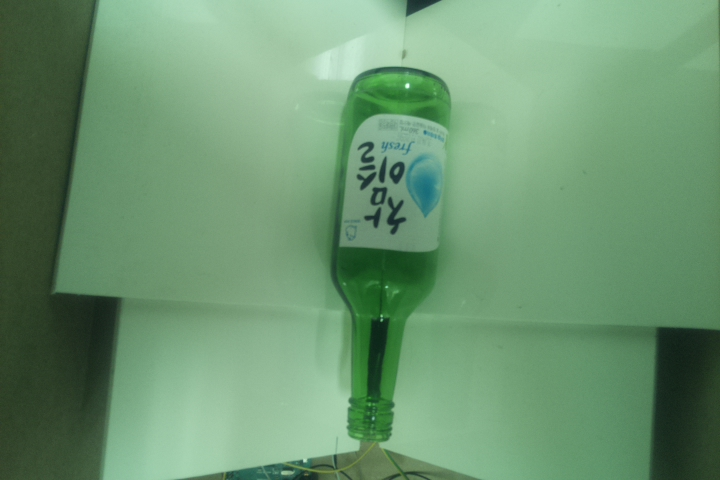soju: (324, 64, 451, 442)
